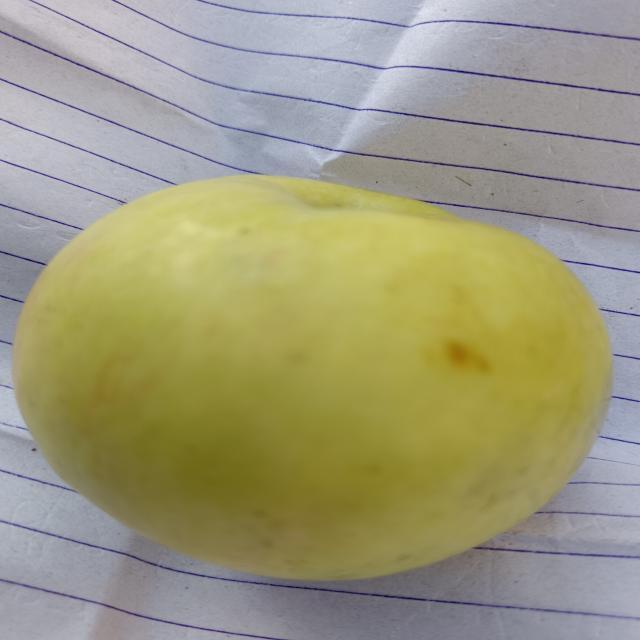Fresh Apple: (30, 183, 607, 605)
